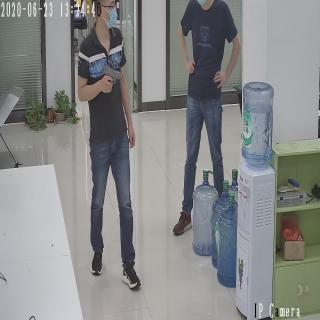gun: (102, 62, 124, 94)
